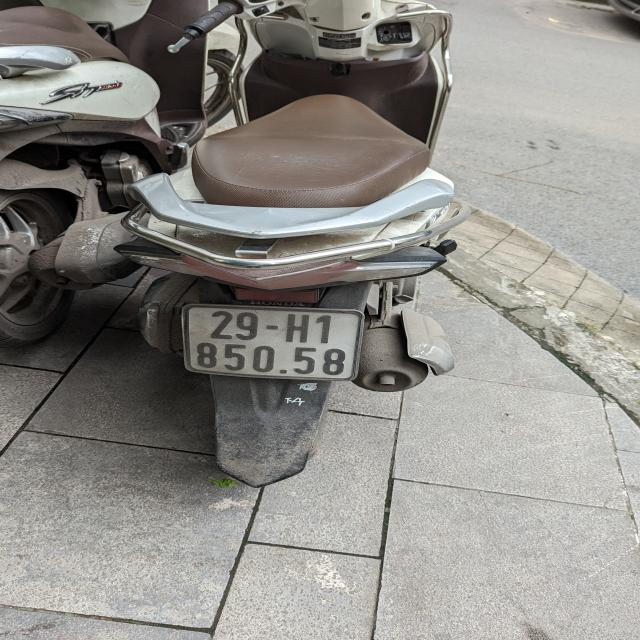License: (180, 303, 363, 381)
